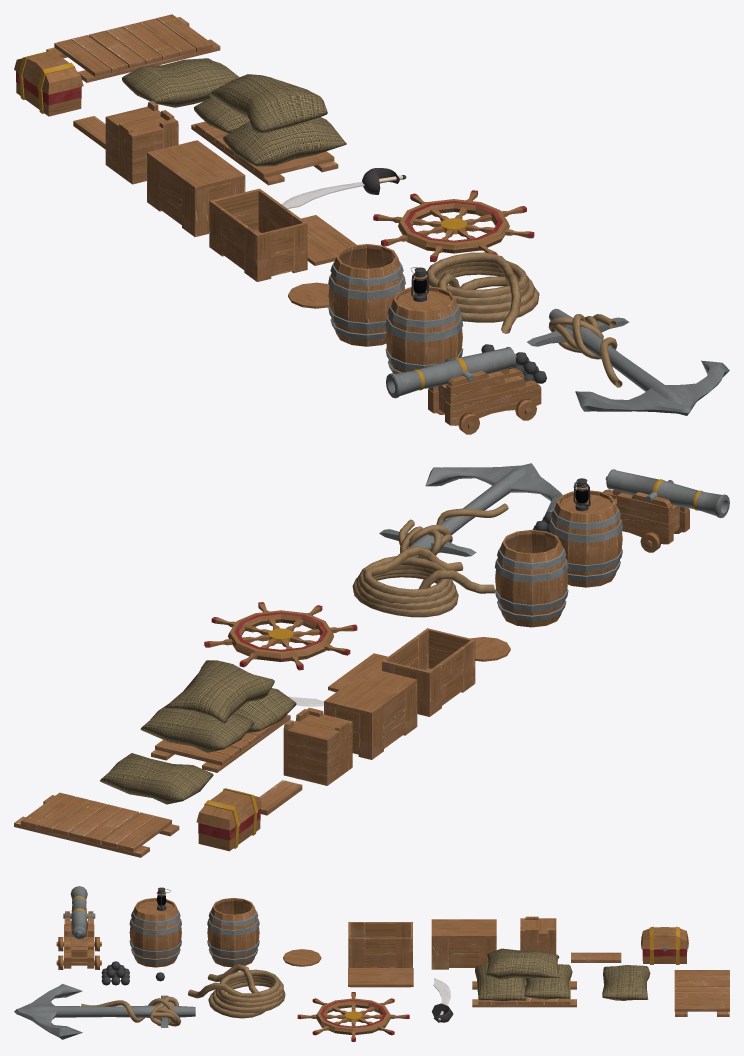
File: pirate_ship_assets.glb
The picture shows the model from 3 angles, top to bottom: view 1: azimuth 30°, elevation 25°; view 2: azimuth 150°, elevation 25°; view 3: azimuth 270°, elevation 25°; orthographic projection. The views are drawn at different scales.
Parts seen in each view (by area): view 1: Object_4, Object_2, Object_5, Object_6, Object_3; view 2: Object_4, Object_2, Object_5, Object_6; view 3: Object_4, Object_2, Object_5, Object_6, Object_3.
Boxes of the visible parts, box(x1,y1,x2,y2) form: Object_4: box(14, 14, 729, 434); Object_2: box(122, 58, 346, 166); Object_5: box(373, 190, 534, 262); Object_6: box(281, 168, 428, 301); Object_3: box(481, 344, 546, 383); Object_4: box(14, 463, 729, 857); Object_2: box(100, 660, 296, 804); Object_5: box(204, 602, 357, 670); Object_6: box(288, 478, 590, 706); Object_4: box(14, 886, 729, 1039); Object_2: box(475, 948, 650, 1001); Object_5: box(297, 992, 409, 1041); Object_6: box(156, 887, 453, 1022); Object_3: box(101, 961, 164, 985).
Size of the model in its own units: 3.38 by 1.19 by 9.18.
Materials: 4 (4 with a texture image).
